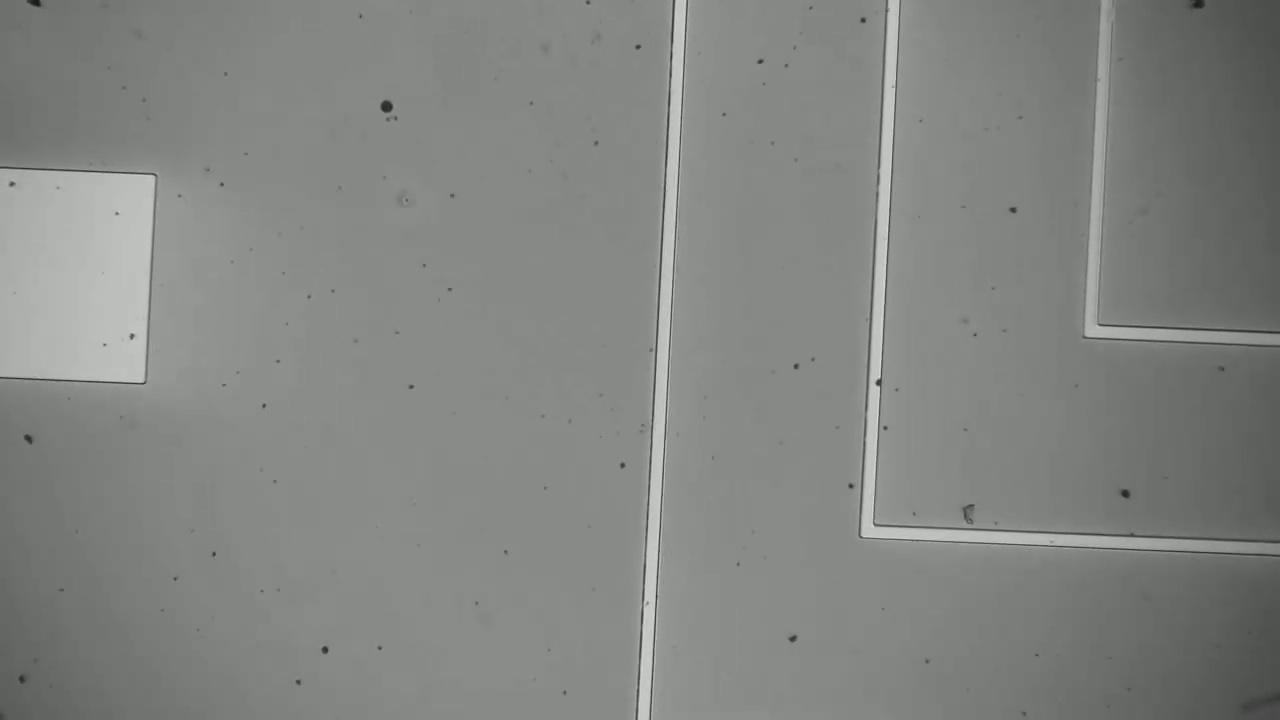stains_enbedded: (865, 375, 886, 399)
